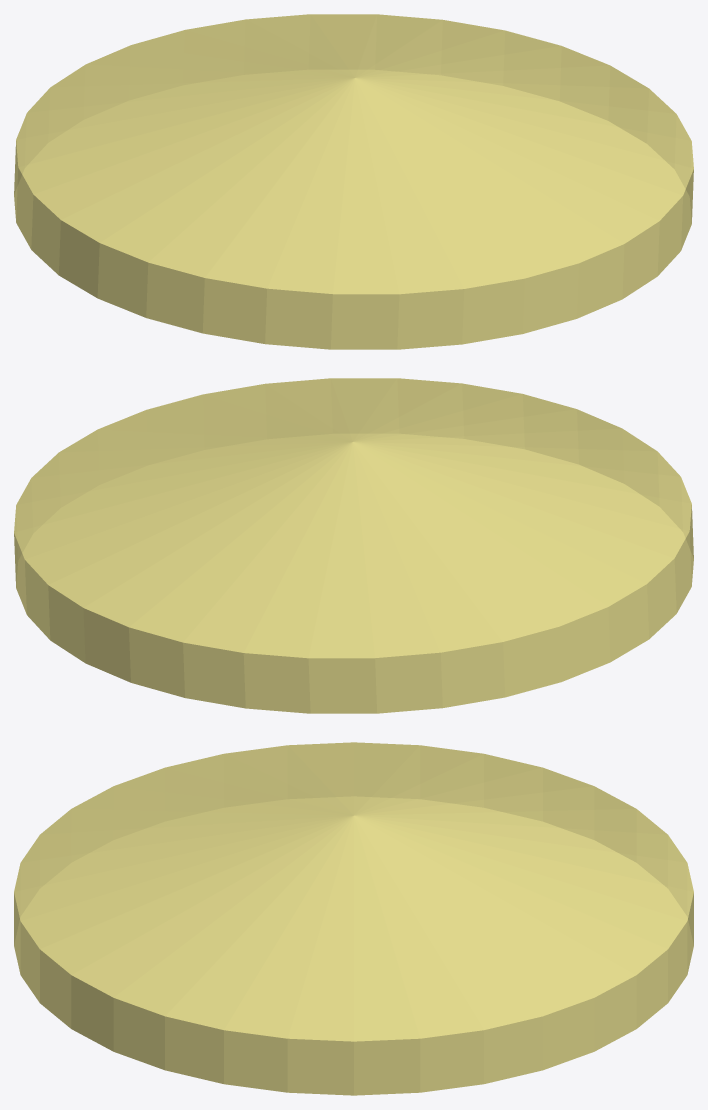
The model's file is Light Fixture.fbx.
The picture shows the model from 3 angles, top to bottom: view 1: azimuth 30°, elevation 25°; view 2: azimuth 150°, elevation 25°; view 3: azimuth 270°, elevation 25°; orthographic projection.
Parts seen in each view (by area): view 1: Cylinder; view 2: Cylinder; view 3: Cylinder.
Part boxes in pixels (x1,y1,x2,y2): Cylinder: (14,14,693,349); Cylinder: (14,378,693,713); Cylinder: (14,742,693,1095).
Bounding box in the file's own units: 201 × 44.6 × 200.
